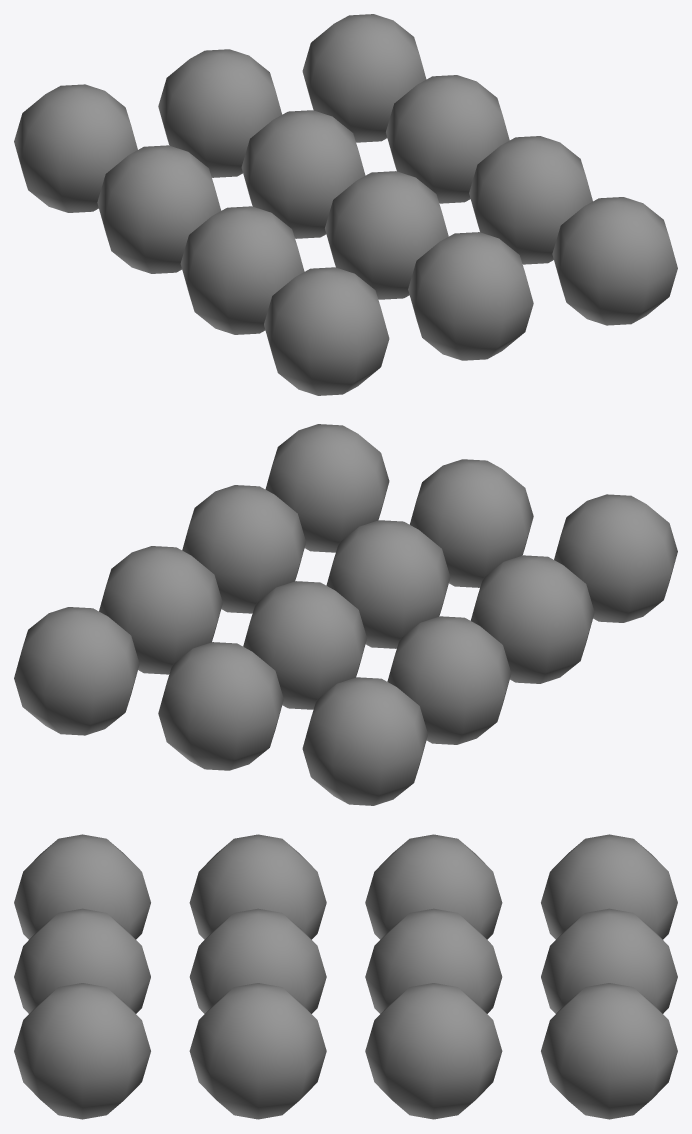
Rendered from SpheresAnisoTest.fbx.
3 views of the same model, one above another, from view 1: azimuth 30°, elevation 25°; view 2: azimuth 150°, elevation 25°; view 3: azimuth 270°, elevation 25° (orthographic). The views are drawn at different scales.
Parts seen in each view (by area): view 1: Spheres; view 2: Spheres; view 3: Spheres.
Boxes of the visible parts, x1,y1,x2,y2 form: Spheres: (14, 14, 677, 395); Spheres: (14, 424, 677, 805); Spheres: (14, 834, 677, 1119).
Size of the model in its own units: 968 by 712 by 200.
Materials: 1 (1 with a texture image).
